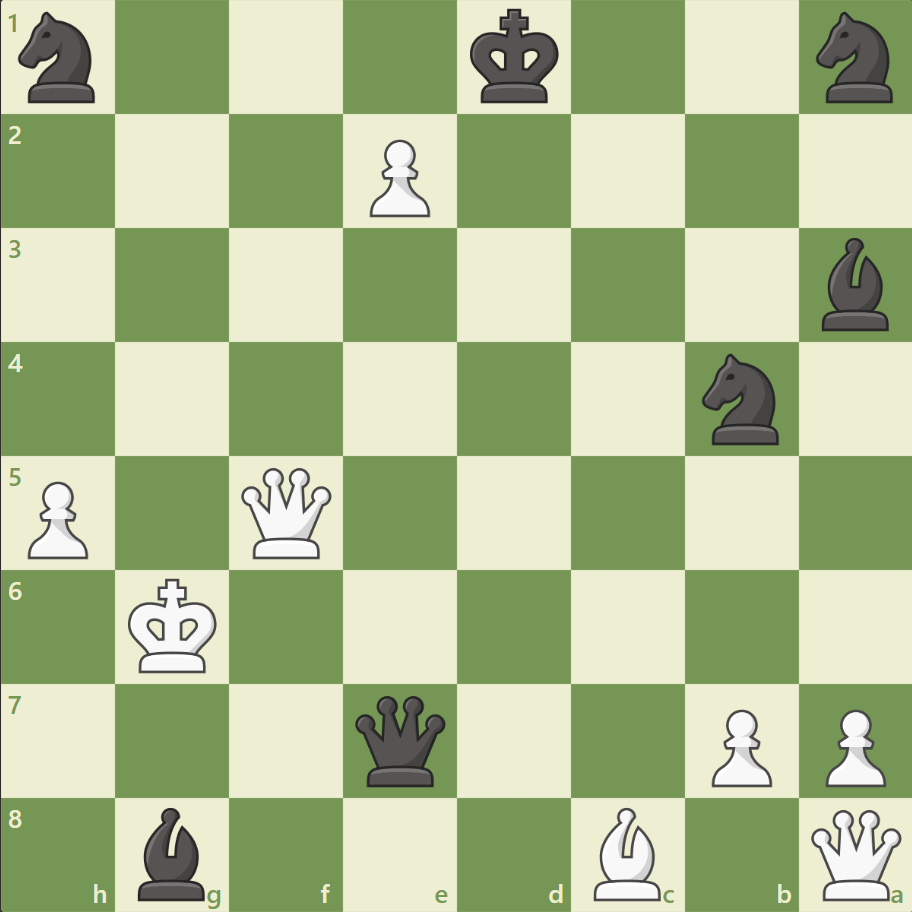B: (585, 801, 669, 904)
K: (124, 571, 224, 679)
P: (701, 700, 776, 791), (20, 473, 95, 564), (815, 700, 889, 791), (361, 132, 435, 223)
Q: (805, 804, 904, 903), (237, 463, 336, 562)
b: (131, 801, 215, 904), (812, 233, 896, 336)
k: (465, 4, 565, 112)
n: (806, 7, 903, 110), (11, 7, 108, 110), (692, 348, 789, 450)
q: (351, 690, 450, 789)
